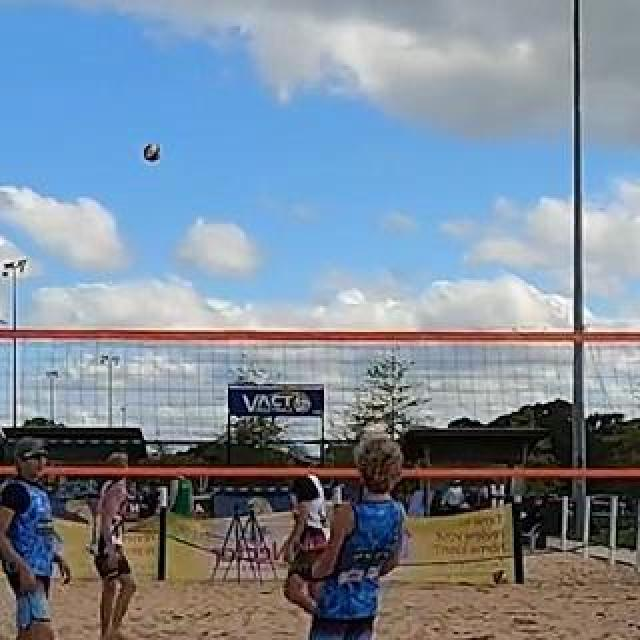volleyball: (143, 143, 161, 161), (492, 569, 508, 585)
